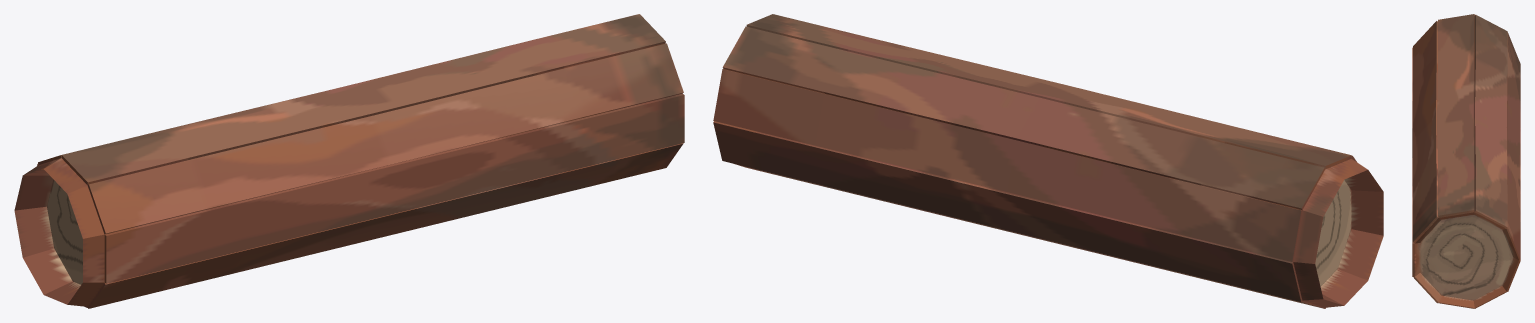
File: SittingLog.fbx
3 views of the same model, side by side, from view 1: azimuth 30°, elevation 25°; view 2: azimuth 150°, elevation 25°; view 3: azimuth 270°, elevation 25° (orthographic). The views are drawn at different scales.
Visible parts, largest first — view 1: Cylinder.005; view 2: Cylinder.005; view 3: Cylinder.005.
Boxes of the visible parts, x1,y1,x2,y2 form: Cylinder.005: [14, 14, 684, 308]; Cylinder.005: [713, 14, 1383, 308]; Cylinder.005: [1412, 14, 1520, 308].
Size of the model in its own units: 1873 by 427 by 425.
Materials: 1 (1 with a texture image).
